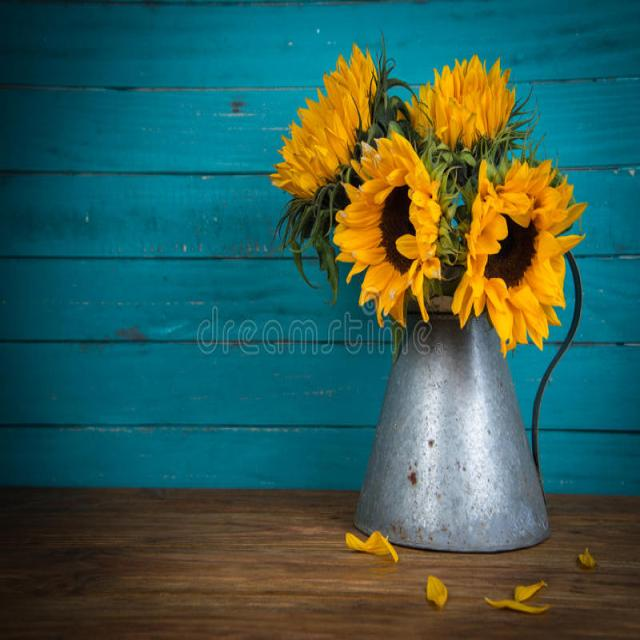sunflower: (454, 159, 596, 362), (335, 121, 444, 334), (402, 50, 518, 181), (284, 52, 381, 204)
